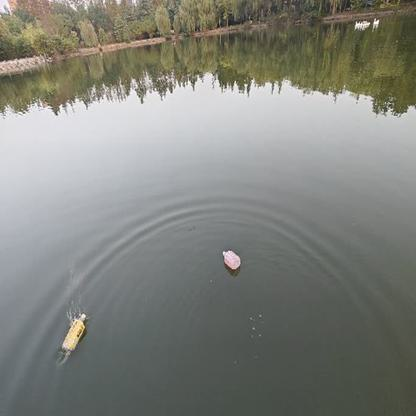plastic bottle: (62, 311, 89, 351), (222, 249, 241, 271)
